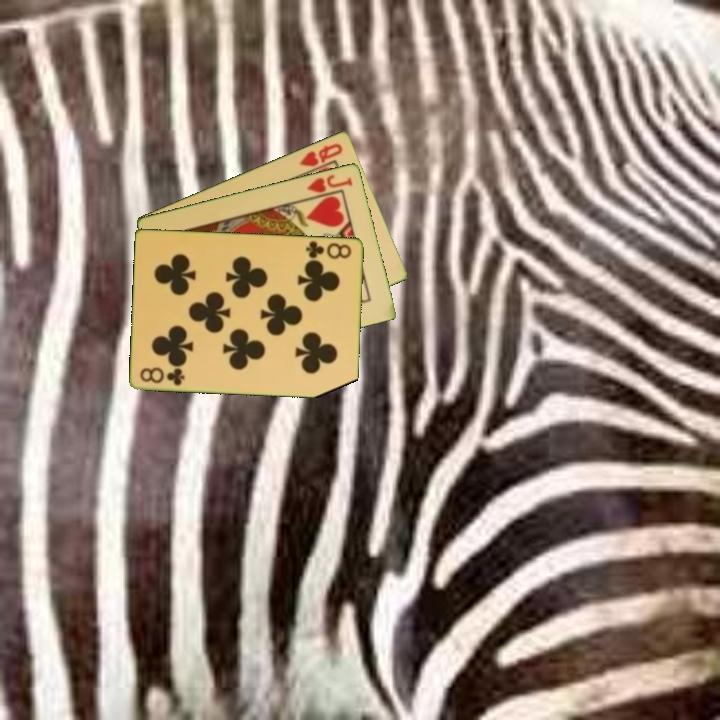8c: (302, 237, 355, 262), (137, 364, 188, 388)
Jh: (302, 171, 356, 201)
Qh: (296, 139, 346, 169)
